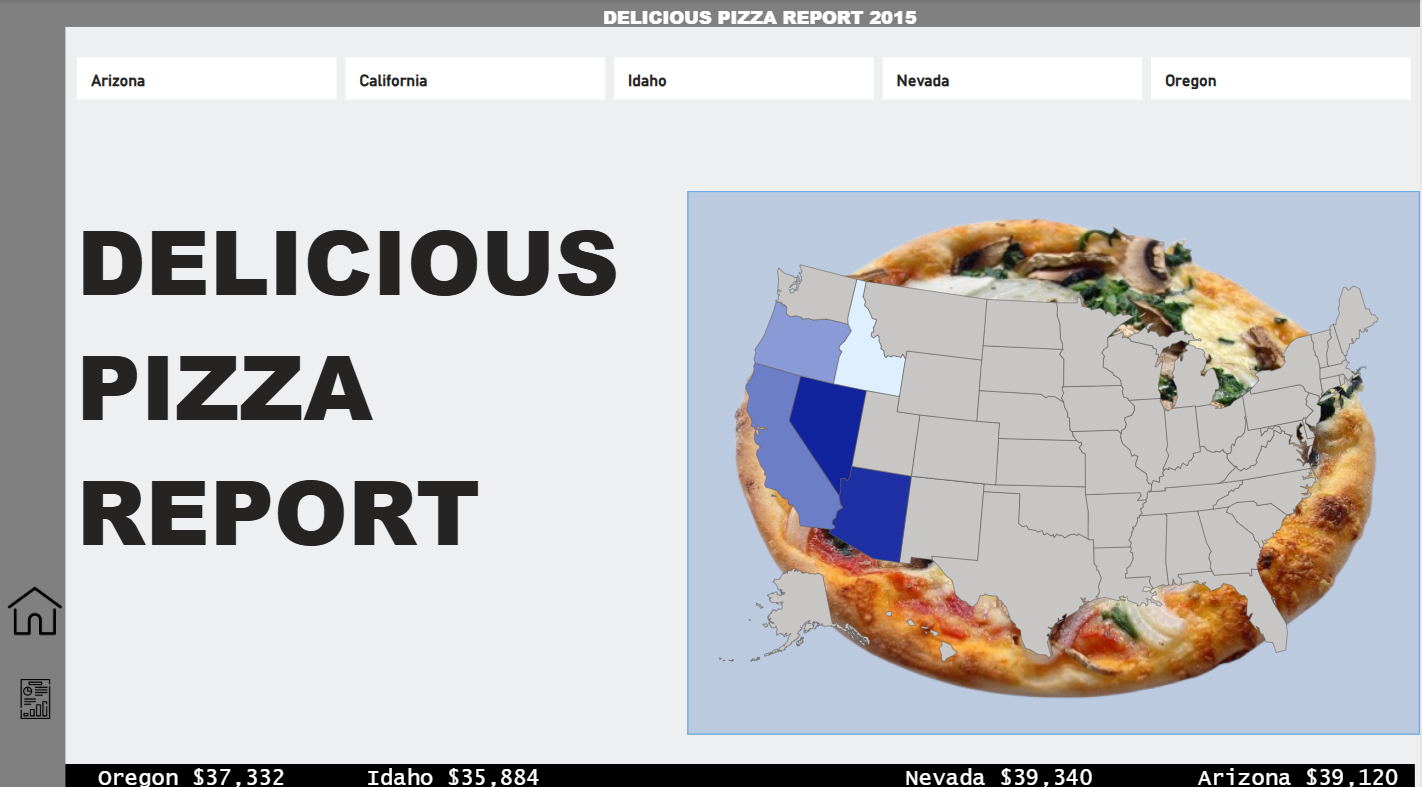

This screenshot's page, from the dashboard's own definition file:
{"tool":"powerbi","page":{"name":"Home","canvas":[1280,720],"ordinal":0},"visuals":[{"type":"ScrollingTextVisual1448795304508","fields":{"Measure Absolute":["Sum(Sales.Sales Amount)"],"Category":["Branch Data.Branch"]},"box":[0,683.6,1280.5,36.2],"z":0},{"type":"shape","box":[620.6,173.3,660,489.9],"z":1000},{"type":"image","box":[620.6,173.3,660,489.9],"z":2000},{"type":"textbox","box":[64.6,173.3,546.6,409.5],"z":3000},{"type":"shapeMap","fields":{"Value":["Sum(Sales.Sales Amount)"],"Category":["Branch Data.Branch"]},"box":[611.1,173.3,669.4,489.9],"z":4000},{"type":"advancedSlicerVisual","fields":{"Values":["Branch Data.Branch"]},"box":[64.6,47.3,1216,48.8],"z":5000},{"type":"image","box":[0,0,64.6,48.8],"z":8000},{"type":"shape","box":[0,0,59.9,719.8],"z":9000},{"type":"image","box":[9.6,598.3,46.7,64.5],"z":9500},{"type":"image","box":[0,521.5,64.5,59],"z":9750},{"type":"shape","box":[0,0,1280.5,25.2],"z":10000},{"type":"textbox","box":[538.7,0,307.1,47.3],"z":11000}]}

Visuals, with their boxes on the page's 1280x720 design canvas (x1, y1, x2, y2). These are canvas units, not pixel positions in the 1422x787 screenshot, which may show the page scaled, cropped or inside an application window:
ScrollingTextVisual1448795304508 - Sum(Sales.Sales Amount) x Branch Data.Branch: select_region(0, 684, 1280, 720)
shape: select_region(621, 173, 1281, 663)
image: select_region(621, 173, 1281, 663)
textbox: select_region(65, 173, 611, 583)
shapeMap - Sum(Sales.Sales Amount) x Branch Data.Branch: select_region(611, 173, 1280, 663)
advancedSlicerVisual - Branch Data.Branch: select_region(65, 47, 1281, 96)
image: select_region(0, 0, 65, 49)
shape: select_region(0, 0, 60, 720)
image: select_region(10, 598, 56, 663)
image: select_region(0, 522, 64, 580)
shape: select_region(0, 0, 1280, 25)
textbox: select_region(539, 0, 846, 47)
